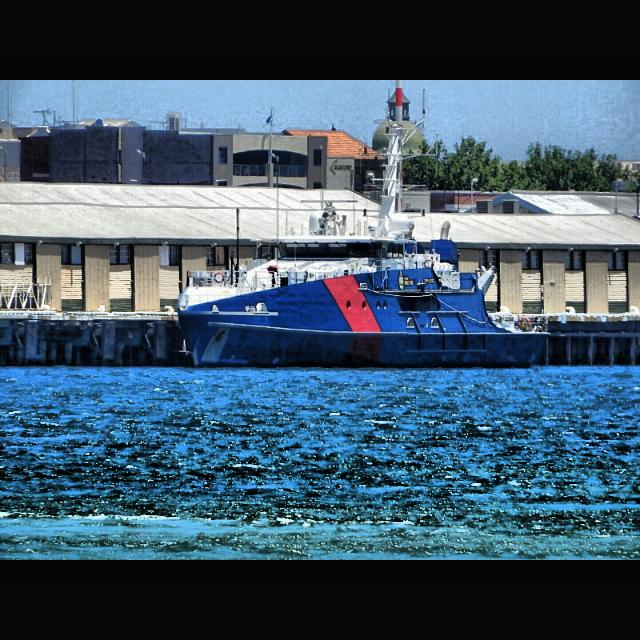patrol_vessel: (178, 116, 552, 372)
